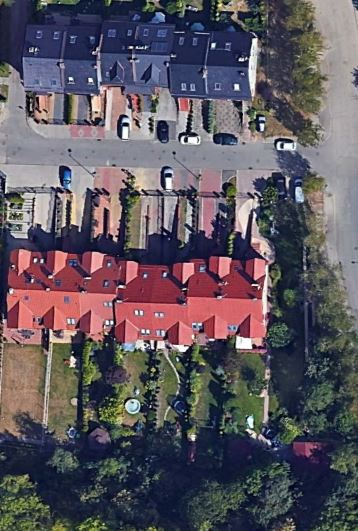terrace house: (3, 245, 282, 355), (18, 9, 262, 106)
